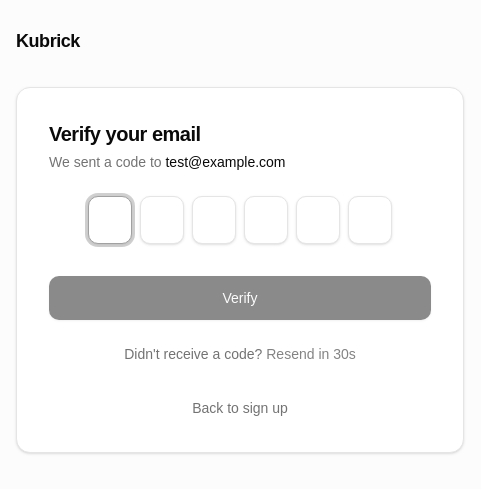
Scenario: Authentication Flow Integration › handles invalid verification code
In the field named "verification code digit": coordinates (110, 220) [88, 196, 132, 244], type "0"
In the field named "verification code digit": coordinates (162, 220) [140, 196, 184, 244], type "0"
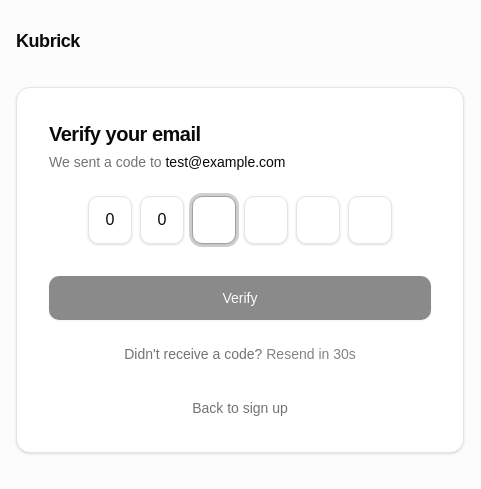
In the field named "verification code digit": coordinates (214, 220) [192, 196, 236, 244], type "0"
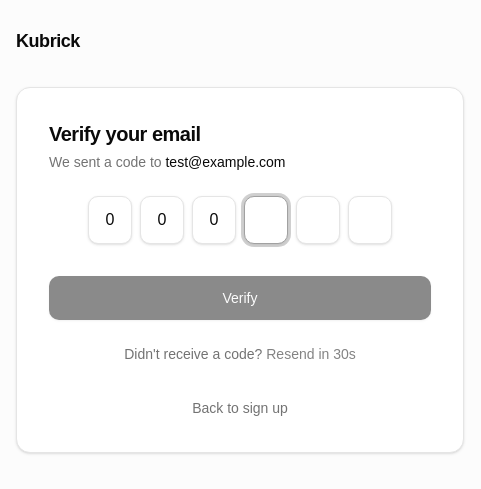
In the field named "verification code digit": coordinates (266, 220) [244, 196, 288, 244], type "0"
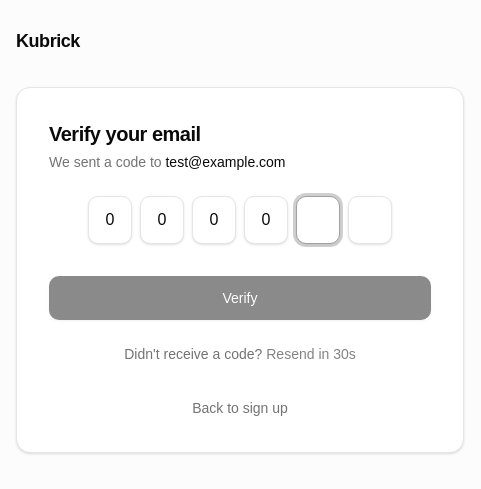
In the field named "verification code digit": coordinates (318, 220) [296, 196, 340, 244], type "0"
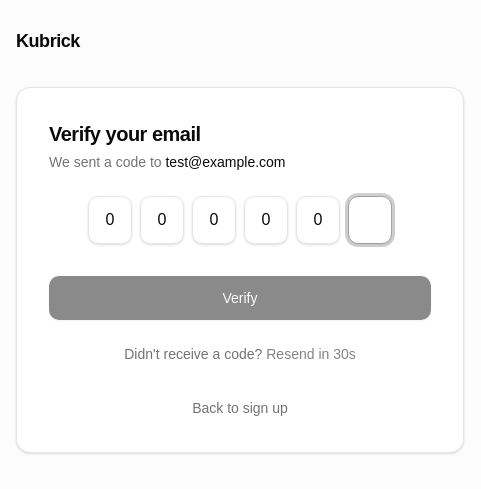
In the field named "verification code digit": coordinates (370, 220) [348, 196, 392, 244], type "0"
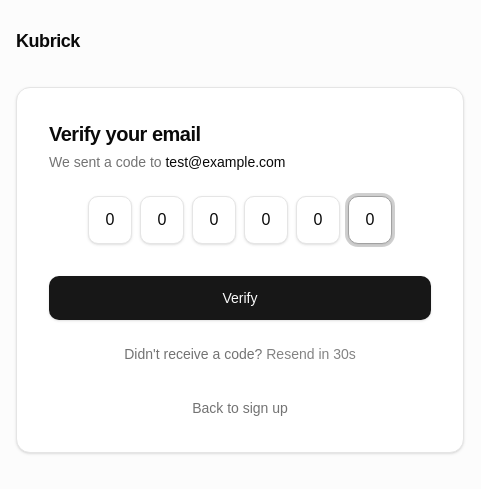
Click the button "Verify": coordinates (240, 298) [49, 276, 431, 320]
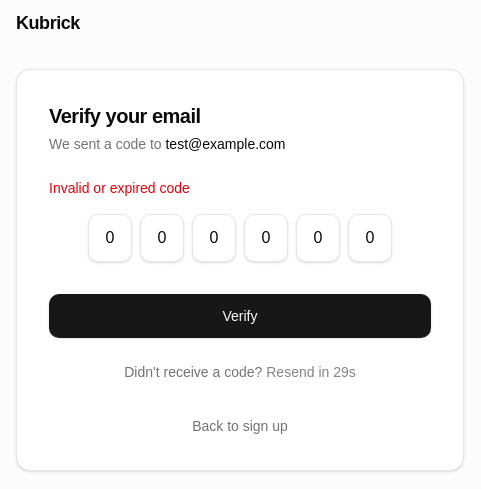
expect the heading "Verify your email" is shown: met, box [49, 105, 201, 127]
expect the text "Invalid or expired code" is shown: met, box [49, 180, 190, 196]
